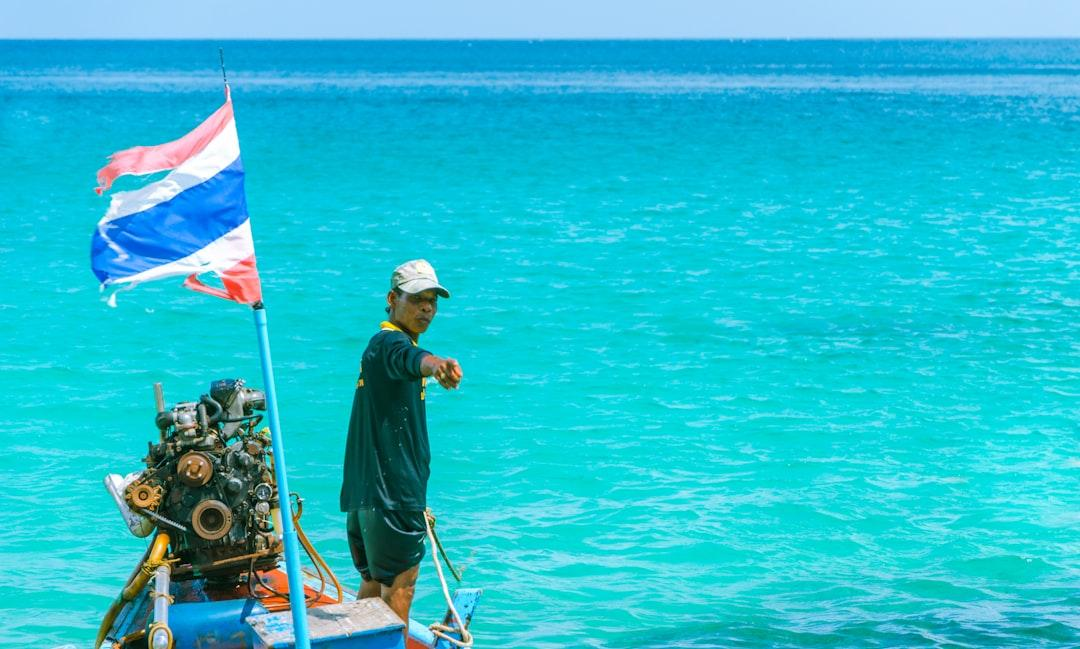Thailand: (92, 99, 264, 316)
